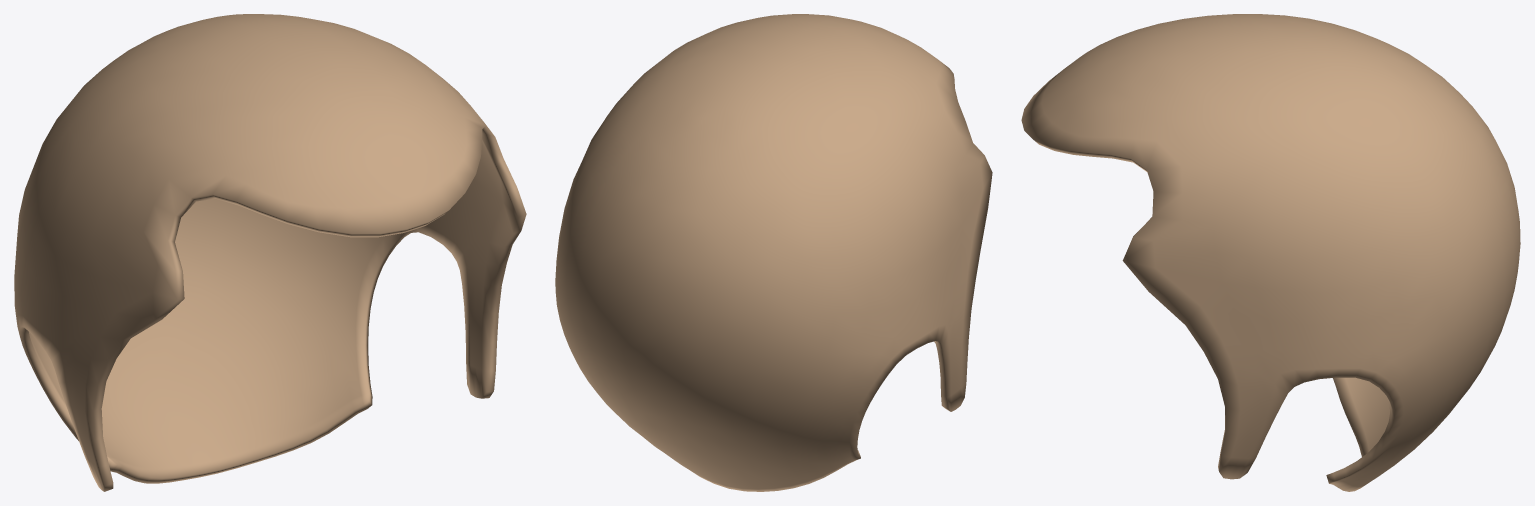
Rendered from hair-8-edce607a.glb.
3 views of the same model, side by side, from view 1: azimuth 30°, elevation 25°; view 2: azimuth 150°, elevation 25°; view 3: azimuth 270°, elevation 25° (orthographic). The views are drawn at different scales.
Visible parts, largest first — view 1: Geo_White_Old_Male_Hair_8.001; view 2: Geo_White_Old_Male_Hair_8.001; view 3: Geo_White_Old_Male_Hair_8.001.
Part boxes in pixels (x1,y1,x2,y2): Geo_White_Old_Male_Hair_8.001: [14, 14, 526, 491]; Geo_White_Old_Male_Hair_8.001: [555, 14, 992, 491]; Geo_White_Old_Male_Hair_8.001: [1021, 14, 1520, 491].
Bounding box in the file's own units: 1.38 × 1.51 × 1.58.
